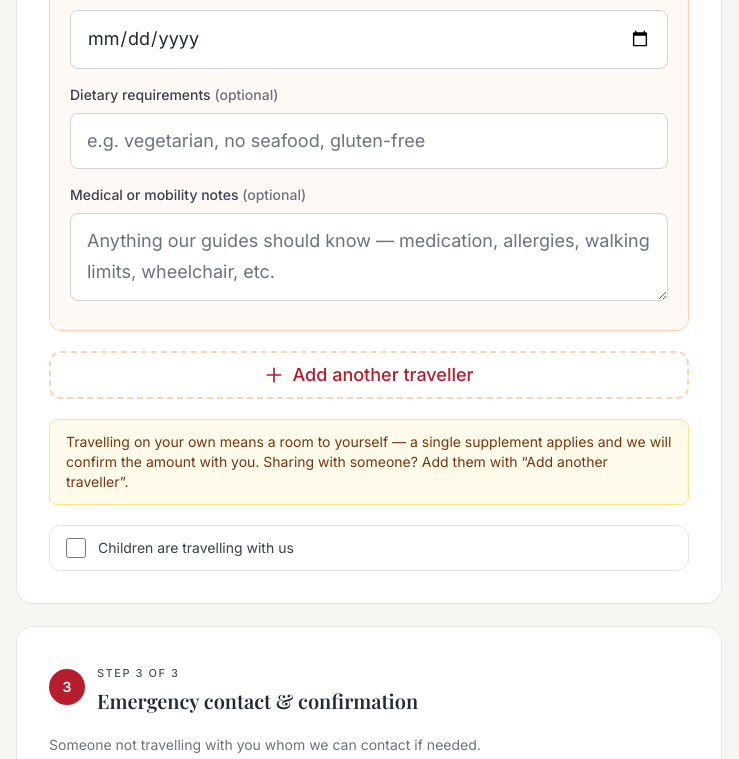
Test: single supplement › falls back to a generic message when no tour is picked
(page scrolled)
Click the button "Add another traveller": (369, 375) [49,351,689,399]
(page scrolled)
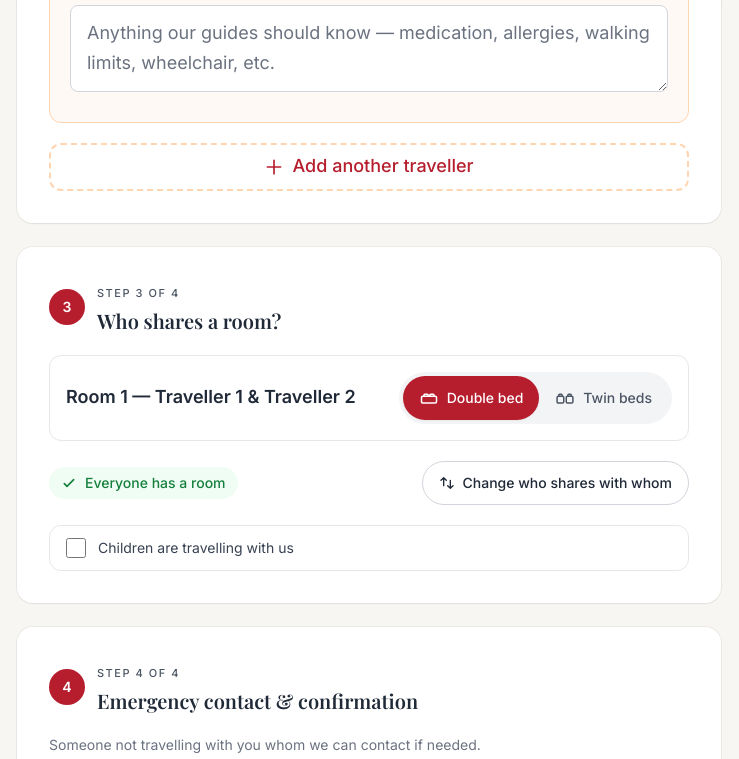
Click the button "Add another traveller": (369, 167) [49,143,689,191]
(page scrolled)
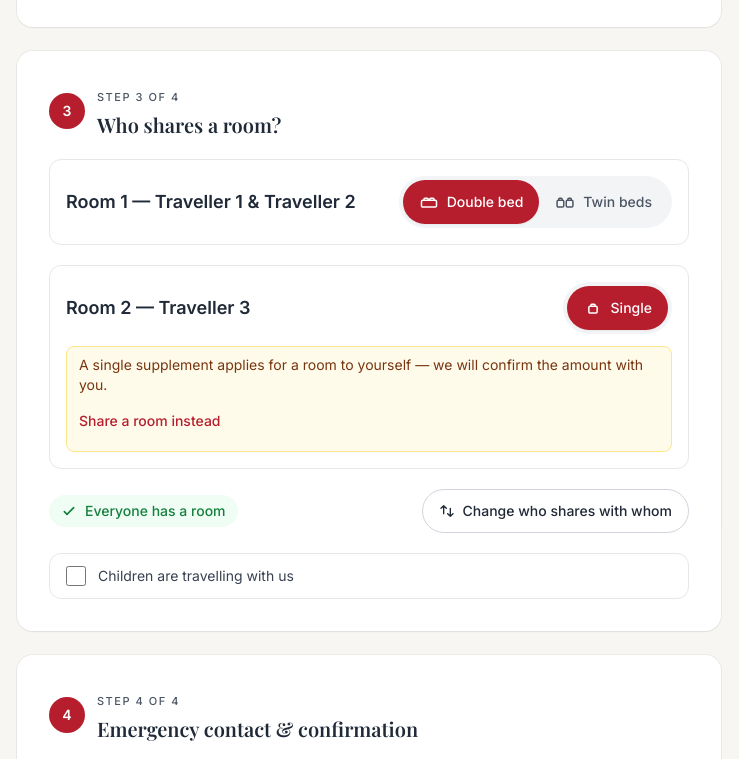
Expected: the text "we will confirm the amount with you" is shown, [79,356,643,393]
